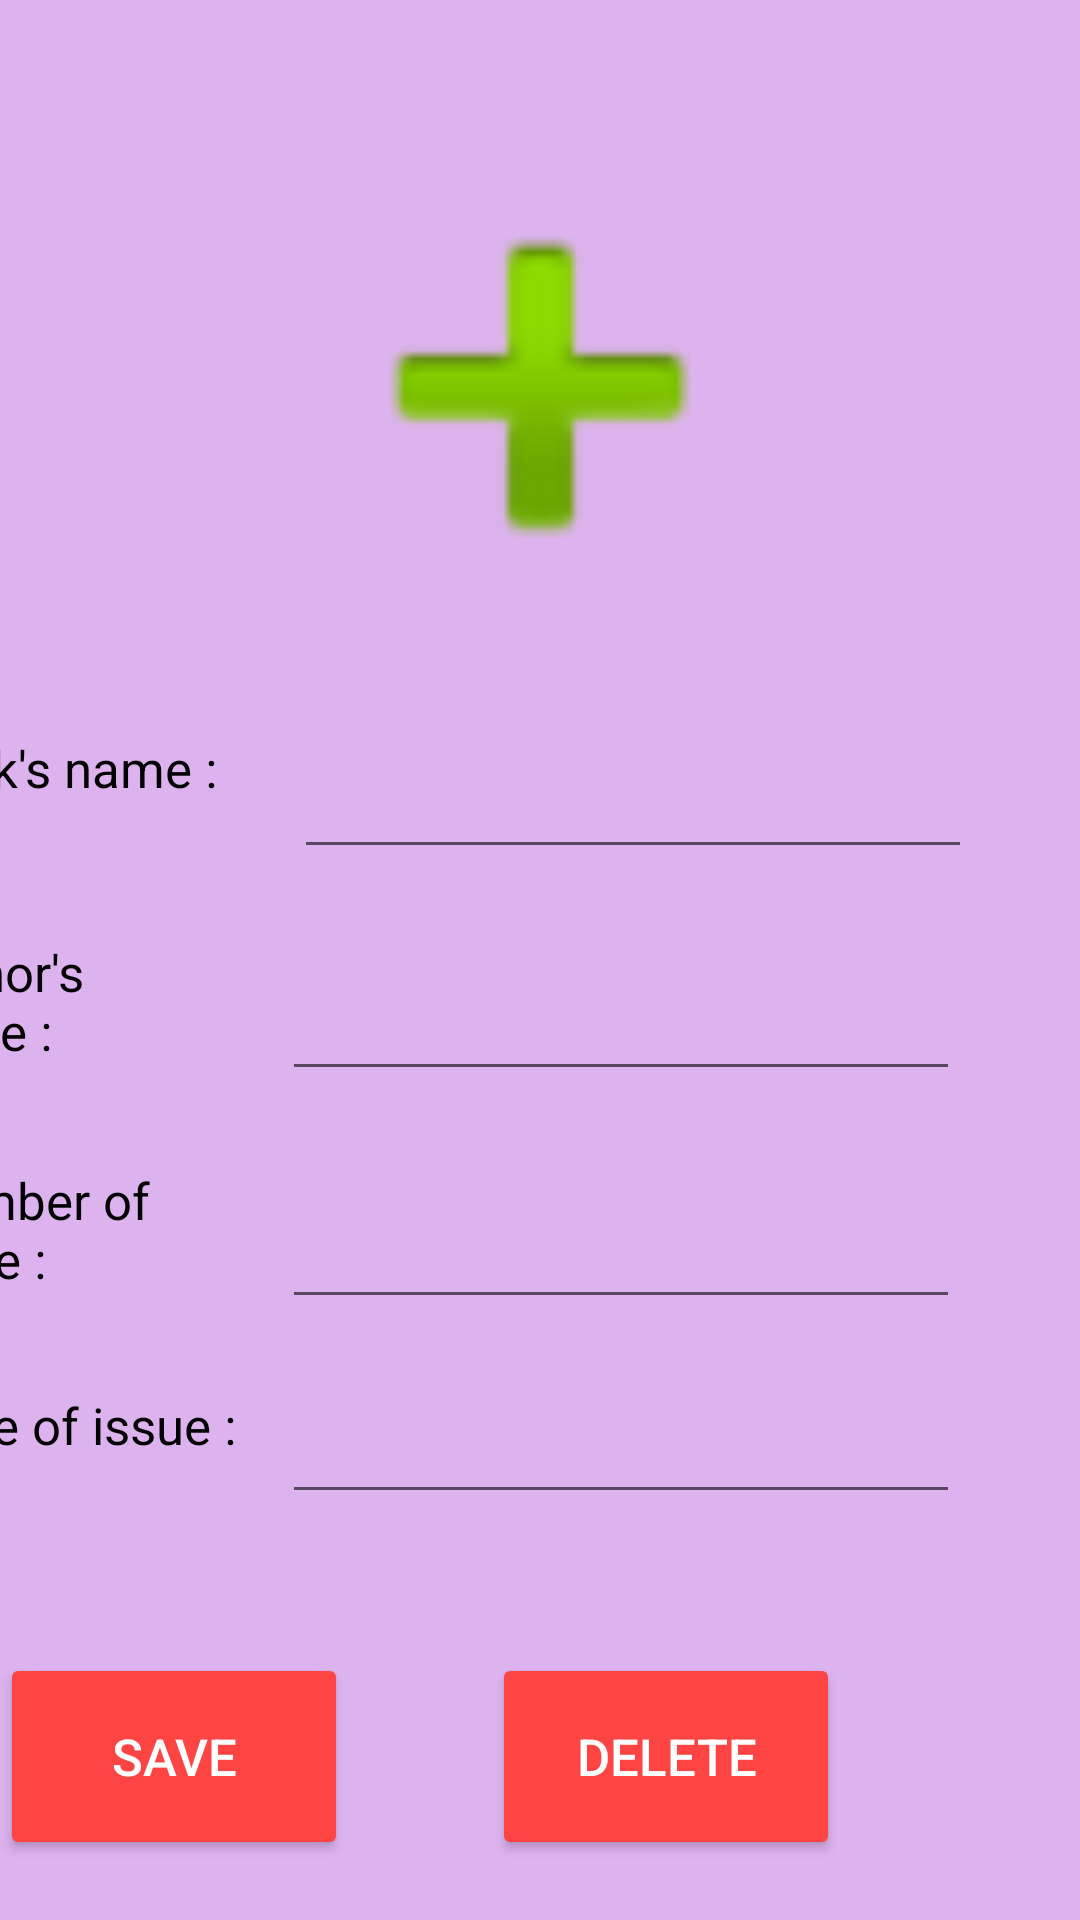

Screen size 1080 x 1920. Icon name, then its center in pixels as point (x, y):
add: point (540, 387)
